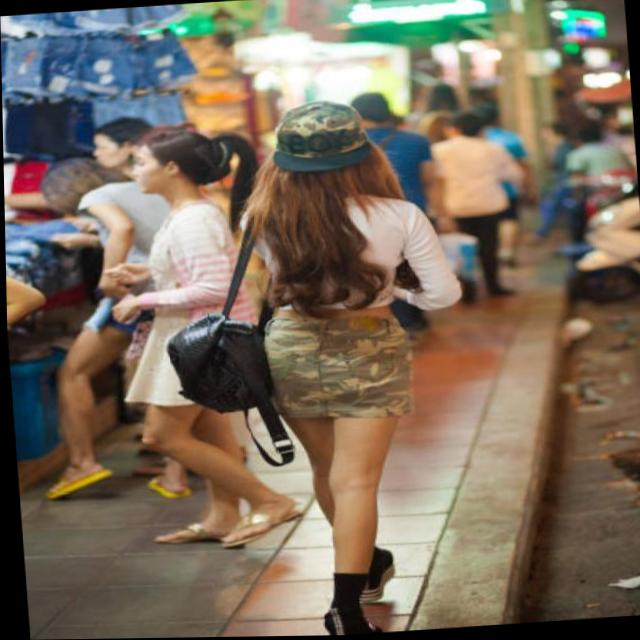no helmet: (266, 93, 379, 210)
